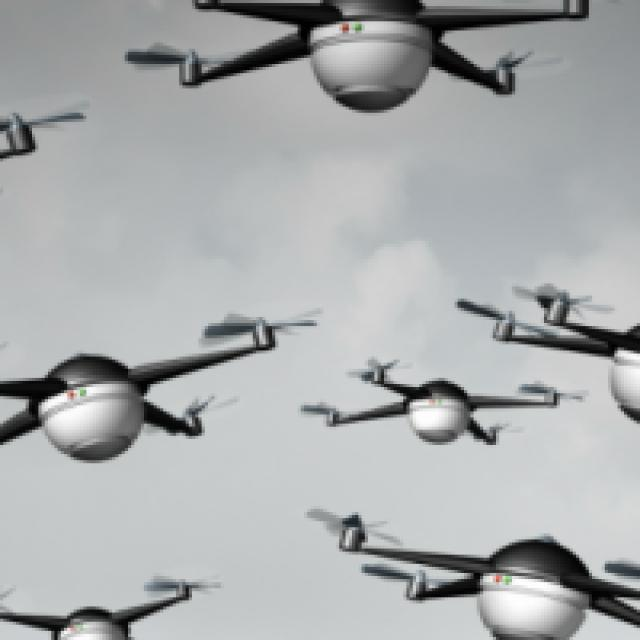drone: (119, 0, 602, 122), (0, 305, 320, 478), (281, 497, 640, 640), (291, 348, 586, 460), (464, 274, 640, 457), (0, 91, 109, 308), (0, 573, 224, 640)
